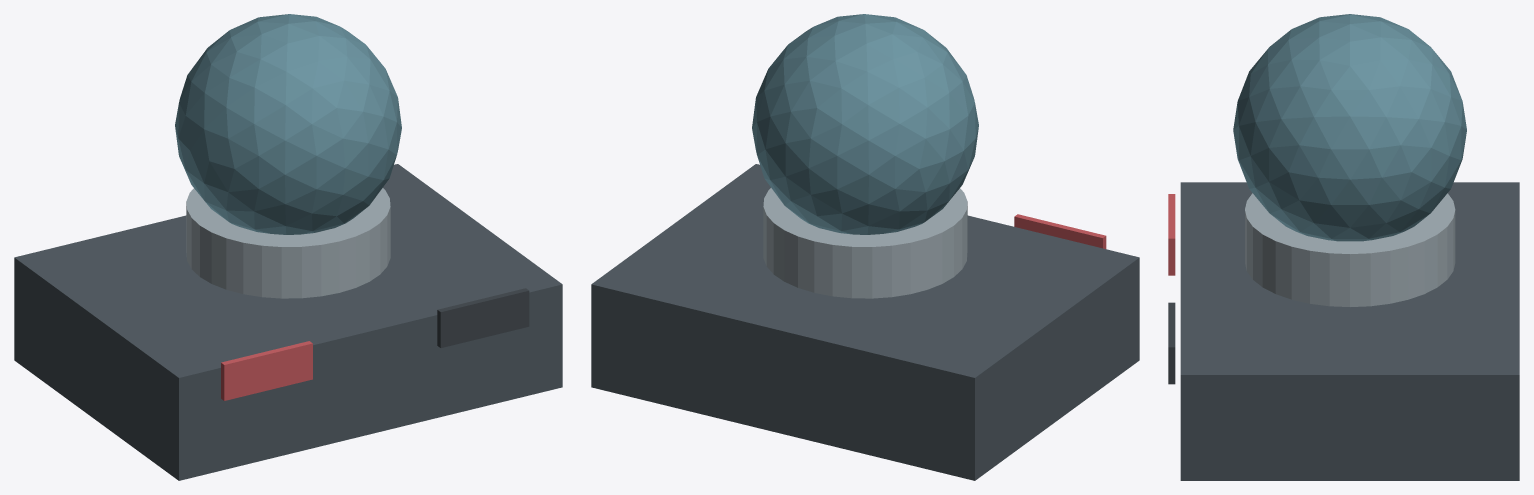
Rendered from led_module_lod1.glb.
3 renders of one model, left to right at view 1: azimuth 30°, elevation 25°; view 2: azimuth 150°, elevation 25°; view 3: azimuth 270°, elevation 25°, orthographic. The views are drawn at different scales.
Visible parts, largest first — view 1: LED_BASE_MAT_POLYMER_BLACK, LED_LENS_MAT_GLASS, LED_RIM_MAT_METAL_BRUSHED, LED_CATHODE_LABEL_MAT_BLACK, LED_ANODE_LABEL_MAT_RED; view 2: LED_BASE_MAT_POLYMER_BLACK, LED_LENS_MAT_GLASS, LED_RIM_MAT_METAL_BRUSHED, LED_ANODE_LABEL_MAT_RED; view 3: LED_BASE_MAT_POLYMER_BLACK, LED_LENS_MAT_GLASS, LED_RIM_MAT_METAL_BRUSHED, LED_CATHODE_LABEL_MAT_BLACK, LED_ANODE_LABEL_MAT_RED.
Part boxes in pixels (x1=…): LED_BASE_MAT_POLYMER_BLACK: x1=14, y1=164, x2=562, y2=480; LED_LENS_MAT_GLASS: x1=175, y1=14, x2=401, y2=234; LED_RIM_MAT_METAL_BRUSHED: x1=186, y1=188, x2=390, y2=298; LED_CATHODE_LABEL_MAT_BLACK: x1=437, y1=288, x2=529, y2=347; LED_ANODE_LABEL_MAT_RED: x1=221, y1=341, x2=312, y2=400; LED_BASE_MAT_POLYMER_BLACK: x1=591, y1=164, x2=1139, y2=480; LED_LENS_MAT_GLASS: x1=752, y1=14, x2=978, y2=234; LED_RIM_MAT_METAL_BRUSHED: x1=763, y1=188, x2=967, y2=298; LED_ANODE_LABEL_MAT_RED: x1=1014, y1=214, x2=1106, y2=248; LED_BASE_MAT_POLYMER_BLACK: x1=1180, y1=182, x2=1519, y2=480; LED_LENS_MAT_GLASS: x1=1233, y1=14, x2=1466, y2=241; LED_RIM_MAT_METAL_BRUSHED: x1=1245, y1=193, x2=1455, y2=306; LED_CATHODE_LABEL_MAT_BLACK: x1=1168, y1=302, x2=1175, y2=384; LED_ANODE_LABEL_MAT_RED: x1=1168, y1=194, x2=1175, y2=275.
Size of the model in its own units: 0.78 by 0.68 by 0.601.
